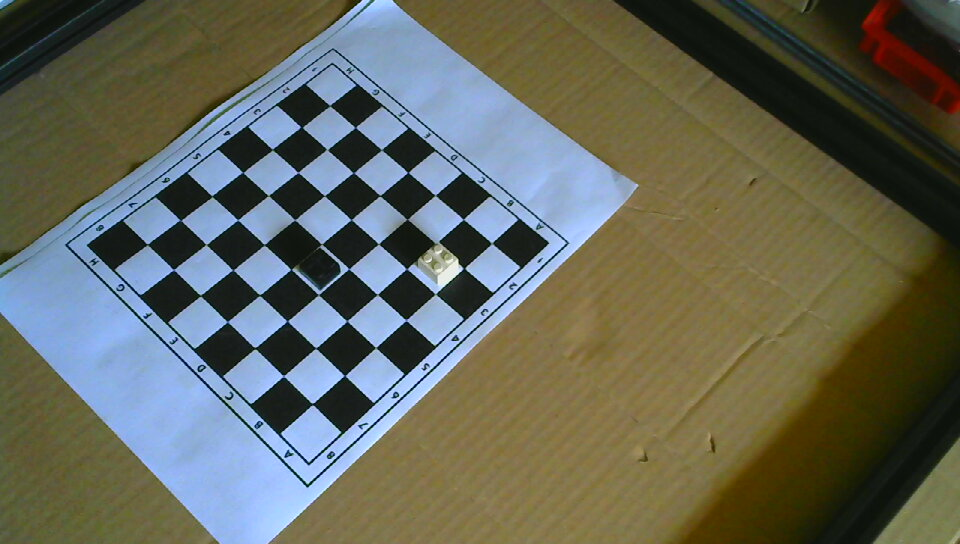bp: (295, 245, 341, 292)
wp: (414, 239, 461, 286)
